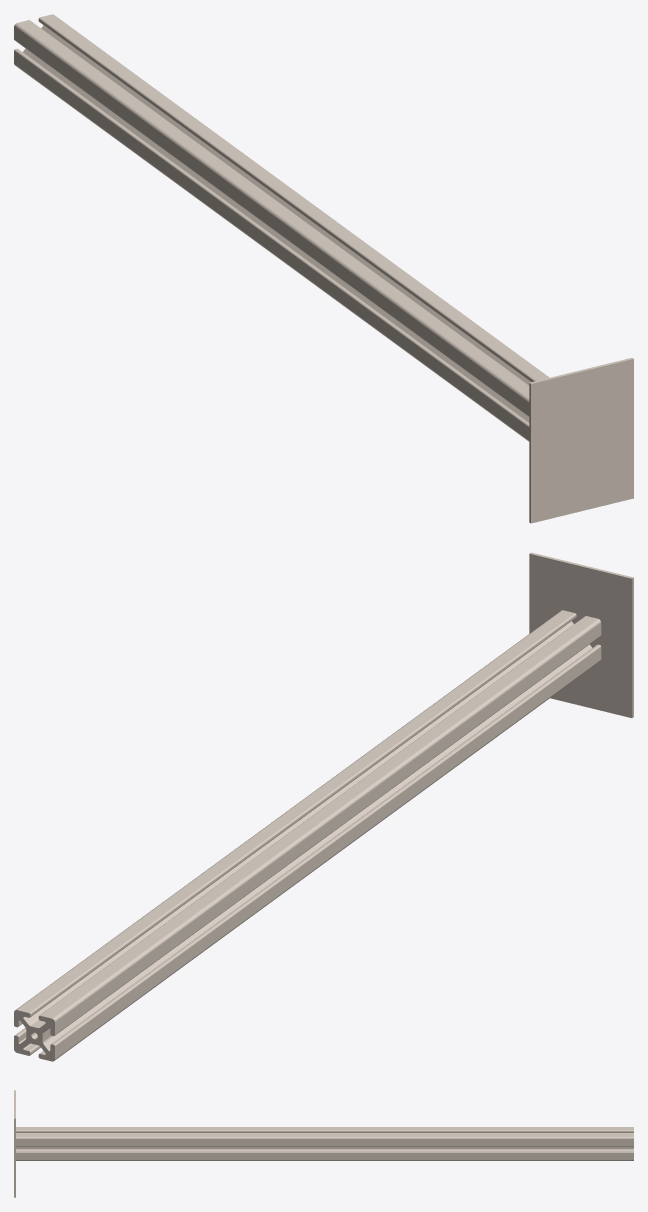
The model's file is vertical_rail.obj.
3 renders of one model, top to bottom at view 1: azimuth 30°, elevation 25°; view 2: azimuth 150°, elevation 25°; view 3: azimuth 270°, elevation 25°, orthographic. The views are drawn at different scales.
Parts seen in each view (by area): view 1: mesh4, mesh30, mesh10, mesh96, mesh76, mesh9, mesh22, mesh84, mesh29, mesh77, mesh78, mesh28 (+3 smaller); view 2: mesh5, mesh10, mesh30, mesh76, mesh96, mesh9, mesh22, mesh84, mesh77, mesh29, mesh78, mesh28 (+6 smaller); view 3: mesh74, mesh54, mesh75, mesh76, mesh96, mesh63, mesh55, mesh64, mesh94, mesh95, mesh53, mesh56 (+5 smaller).
Boxes of the visible parts, box(x1,y1,x2,y2) form: mesh4: box(531, 359, 633, 523); mesh30: box(14, 51, 529, 440); mesh10: box(14, 27, 529, 415); mesh96: box(17, 20, 529, 397); mesh76: box(40, 14, 547, 380); mesh9: box(14, 23, 529, 403); mesh22: box(23, 49, 529, 422); mesh84: box(41, 25, 530, 385); mesh29: box(14, 49, 529, 427); mesh77: box(38, 17, 536, 381); mesh78: box(38, 19, 532, 381); mesh28: box(16, 49, 529, 424); mesh5: box(529, 554, 632, 717); mesh10: box(55, 623, 601, 1034); mesh30: box(55, 647, 601, 1058); mesh76: box(17, 610, 574, 1012); mesh96: box(40, 616, 597, 1018); mesh9: box(52, 619, 600, 1022); mesh22: box(44, 645, 591, 1050); mesh84: box(23, 621, 573, 1024); mesh77: box(29, 613, 576, 1014); mesh29: box(54, 645, 600, 1046); mesh78: box(30, 615, 576, 1016); mesh28: box(52, 644, 598, 1044); mesh74: box(16, 1139, 633, 1146); mesh54: box(16, 1153, 633, 1159); mesh75: box(16, 1136, 633, 1139); mesh76: box(16, 1133, 633, 1136); mesh96: box(16, 1127, 633, 1130); mesh63: box(16, 1148, 633, 1150); mesh55: box(16, 1151, 633, 1152); mesh64: box(16, 1147, 633, 1148); mesh94: box(16, 1131, 633, 1132); mesh95: box(16, 1130, 633, 1131); mesh53: box(16, 1160, 633, 1160); mesh56: box(16, 1151, 633, 1151).
Size of the model in its own units: 0.1004 by 0.13 by 0.9256.
